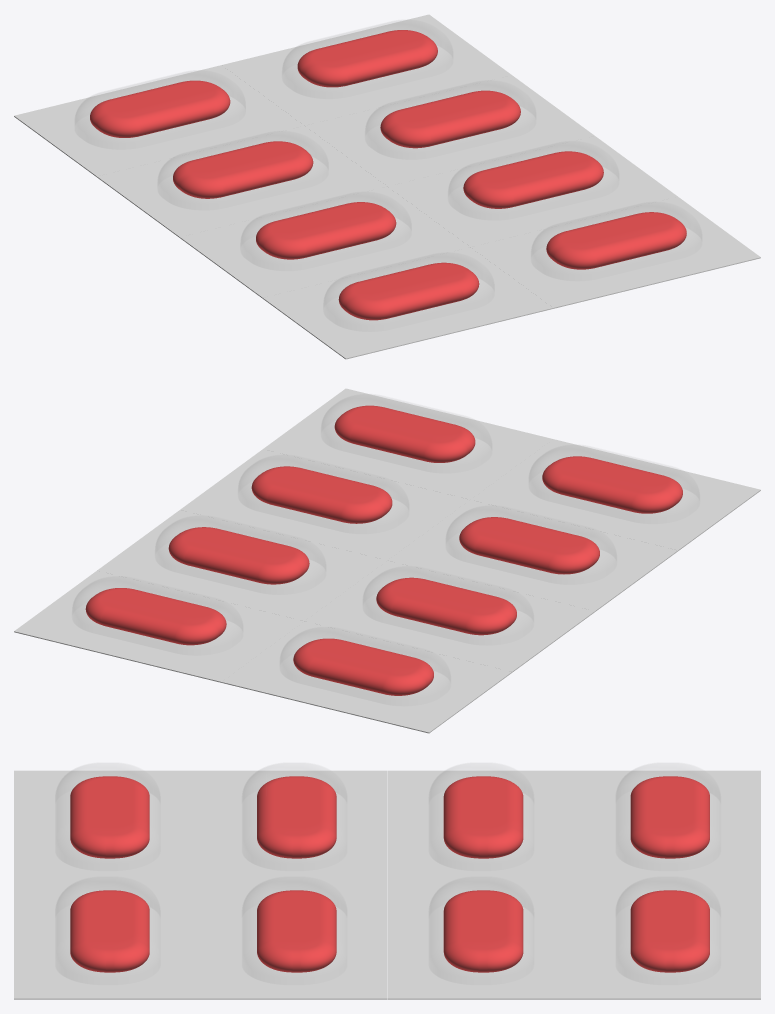
File: Capsule_Pill_2x4_Red.glb
3 renders of one model, top to bottom at view 1: azimuth 30°, elevation 25°; view 2: azimuth 150°, elevation 25°; view 3: azimuth 270°, elevation 25°, orthographic. The views are drawn at different scales.
Visible parts, largest first — view 1: Capsule_Pill_Base_2x4, Capsule_Pill_2x4, Capsule_Pill_Lid_2x4, Capsule_Pill_Shell_2x4; view 2: Capsule_Pill_Base_2x4, Capsule_Pill_2x4, Capsule_Pill_Lid_2x4, Capsule_Pill_Shell_2x4; view 3: Capsule_Pill_Base_2x4, Capsule_Pill_2x4, Capsule_Pill_Lid_2x4, Capsule_Pill_Shell_2x4.
Boxes of the visible parts, x1,y1,x2,y2 form: Capsule_Pill_Base_2x4: [14, 14, 760, 359]; Capsule_Pill_2x4: [90, 30, 686, 320]; Capsule_Pill_Lid_2x4: [74, 45, 702, 331]; Capsule_Pill_Shell_2x4: [75, 20, 701, 307]; Capsule_Pill_Base_2x4: [14, 388, 760, 733]; Capsule_Pill_2x4: [85, 405, 682, 695]; Capsule_Pill_Lid_2x4: [72, 420, 700, 706]; Capsule_Pill_Shell_2x4: [72, 394, 699, 681]; Capsule_Pill_Base_2x4: [14, 770, 760, 999]; Capsule_Pill_2x4: [70, 776, 709, 972]; Capsule_Pill_Lid_2x4: [55, 790, 721, 985]; Capsule_Pill_Shell_2x4: [55, 763, 720, 918].
Size of the model in its own units: 6.8 by 0.4666 by 9.41.
